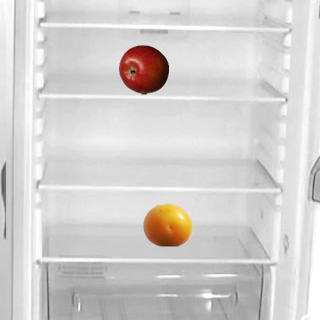Apple Braeburn: (118, 44, 168, 94)
Cherry Wax Yellow: (142, 199, 192, 249)
